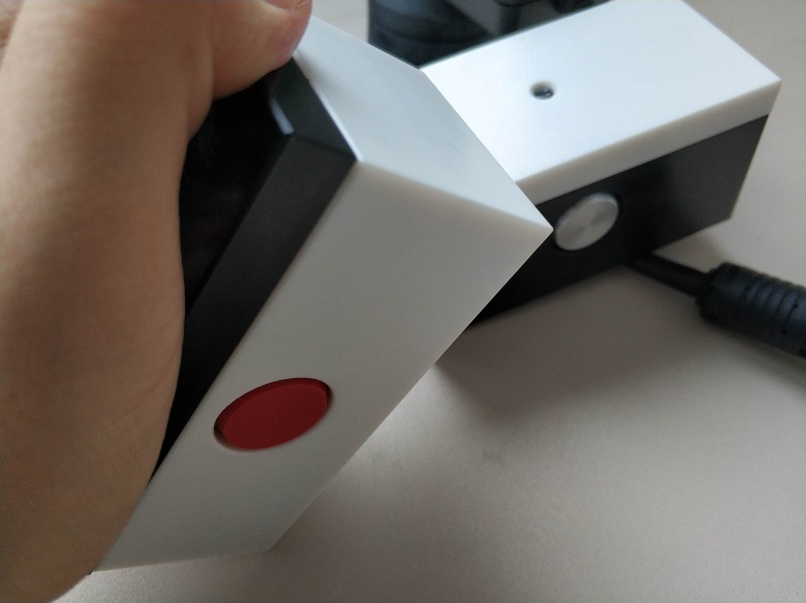black+white+red: (86, 12, 559, 573)
white+black+silver: (414, 1, 783, 335)
